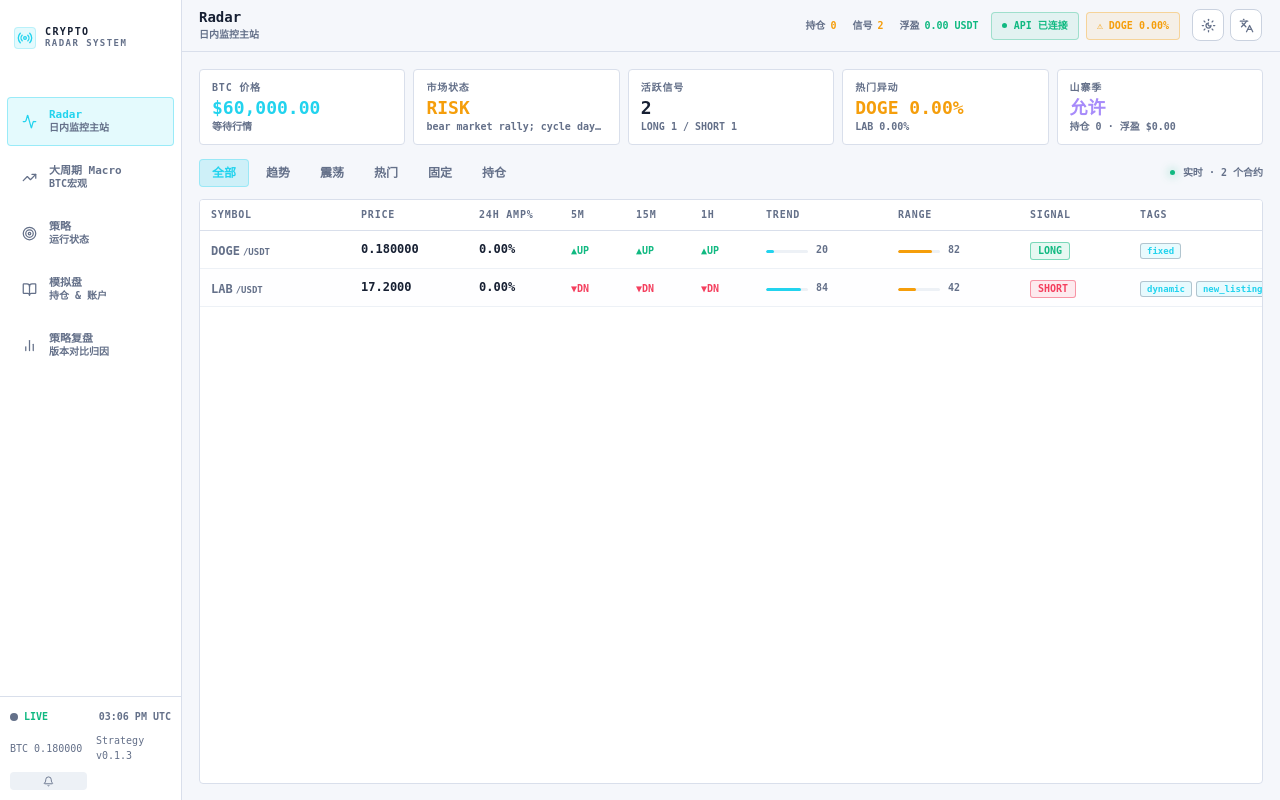
Test: App › renders the macro cycle view
Click the button "大周期 Macro BTC宏观". click: (90, 178)
box: [7, 153, 174, 202]
(page scrolled)
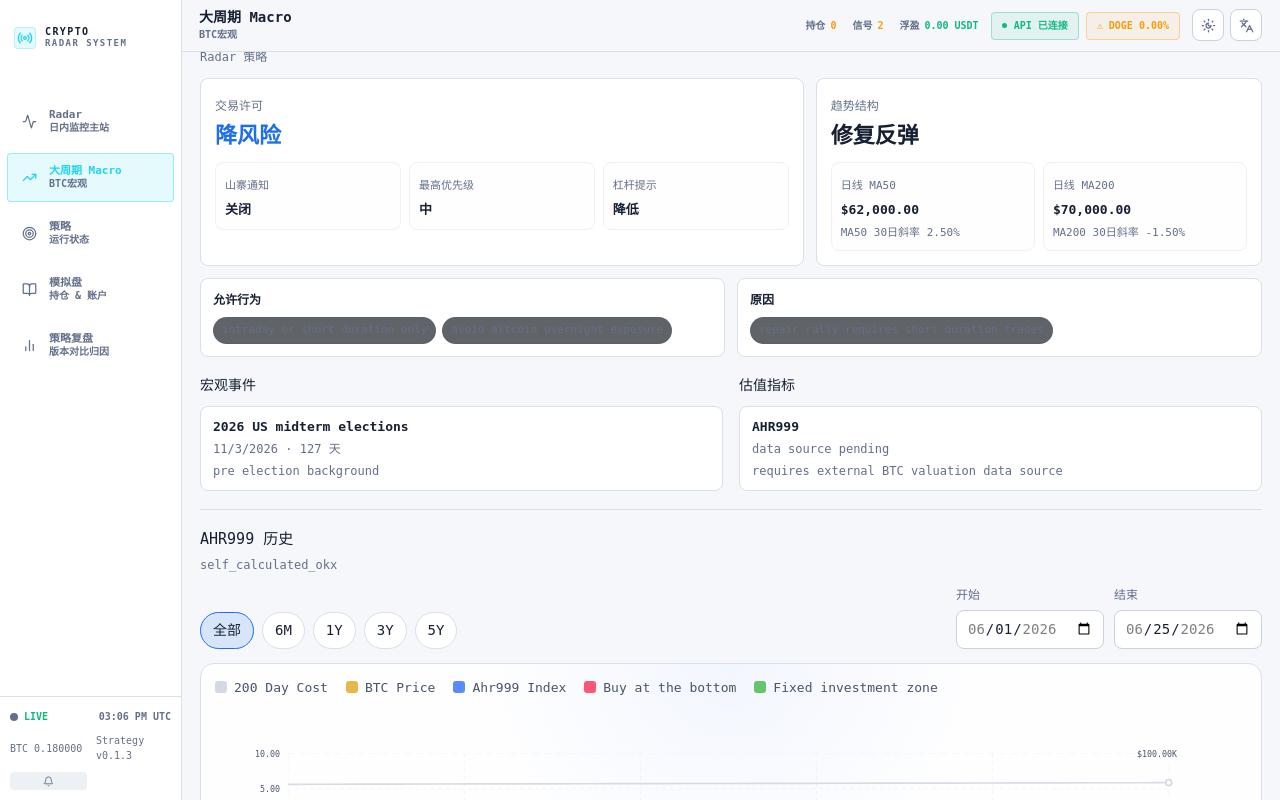
Result: the text "2026 US midterm elections" is shown at [213, 419, 409, 434]
Result: the text "AHR999" is shown at [752, 419, 799, 434]
